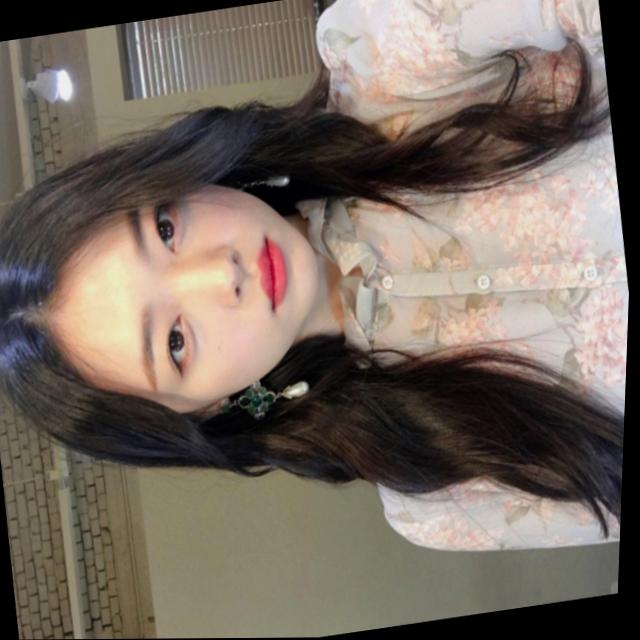face: (29, 175, 339, 425)
